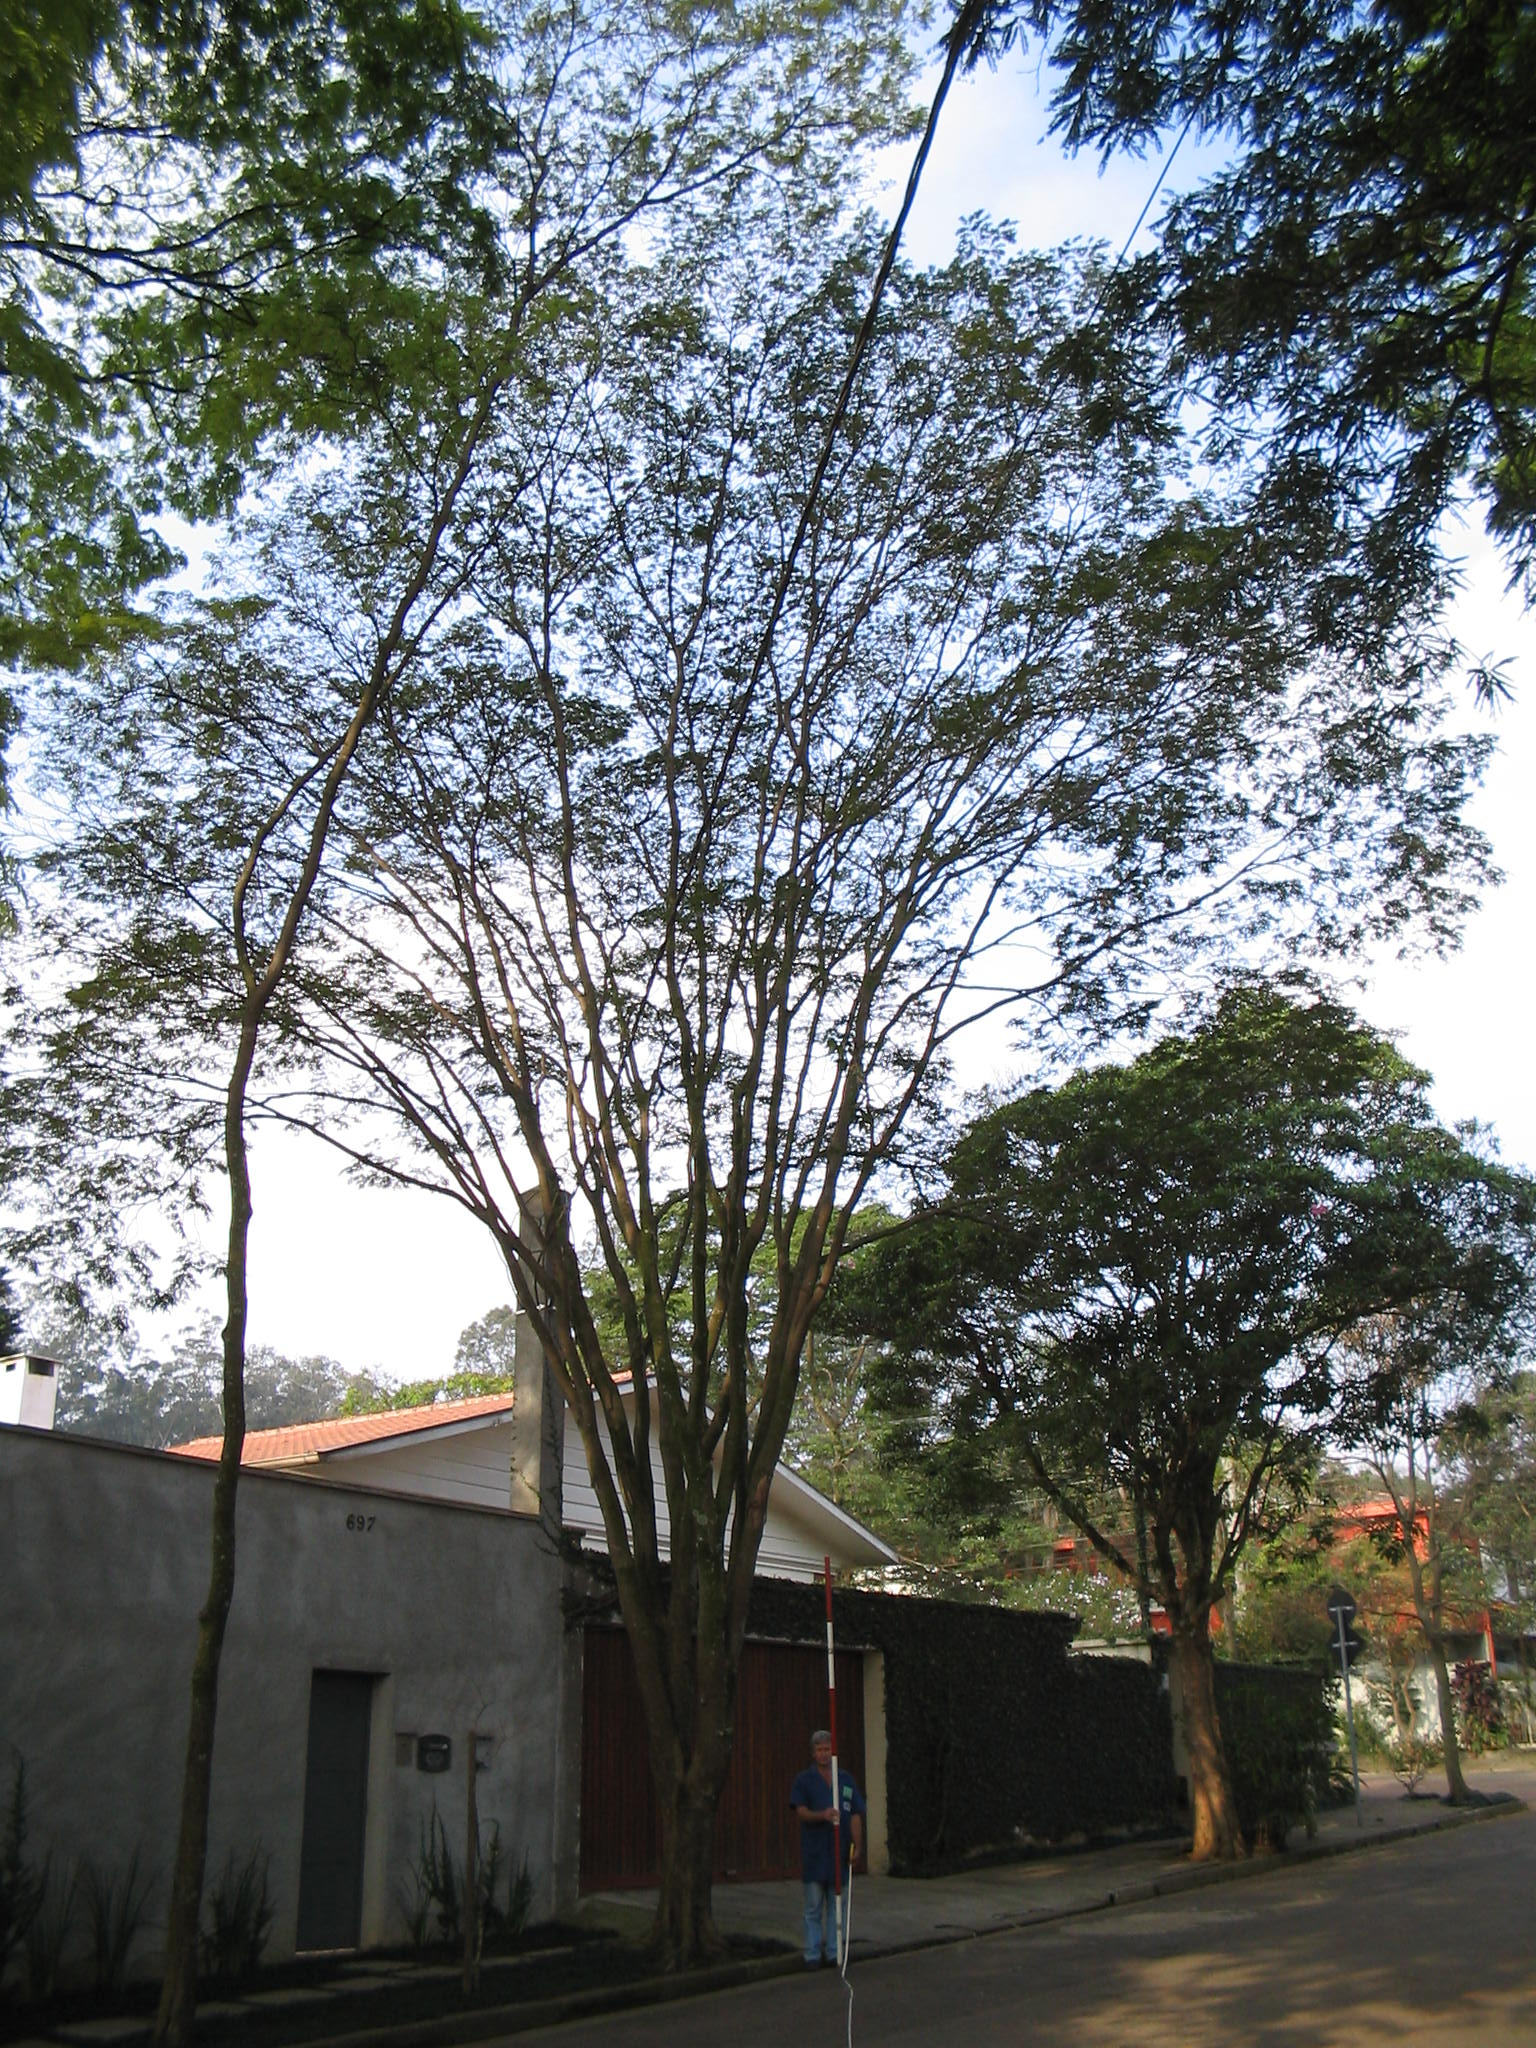crown: (97, 226, 1507, 1182), (829, 1003, 1533, 1529)
stem: (600, 1761, 766, 1971), (1129, 1625, 1271, 1853)
stick: (792, 1553, 866, 1975)
tree: (86, 216, 1515, 1975), (820, 995, 1530, 1858)
